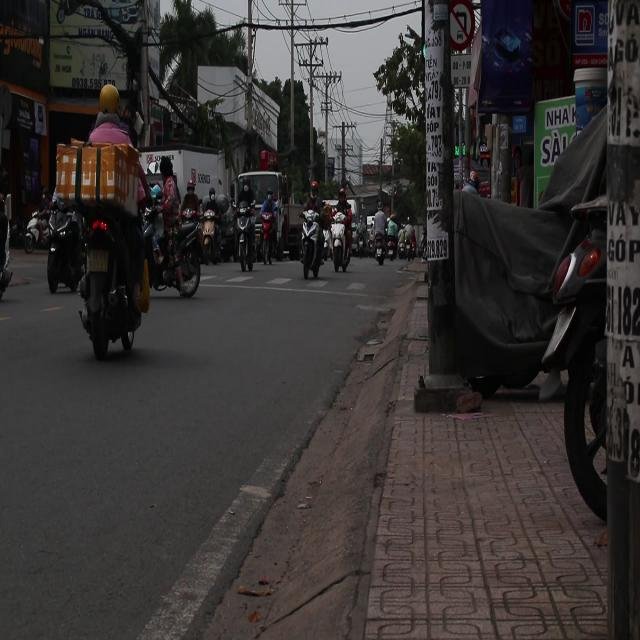motorbike: (75, 201, 147, 359), (150, 215, 204, 299), (44, 202, 89, 296), (300, 207, 331, 280), (257, 193, 281, 265), (235, 206, 259, 272), (330, 212, 352, 274), (25, 207, 54, 253)
